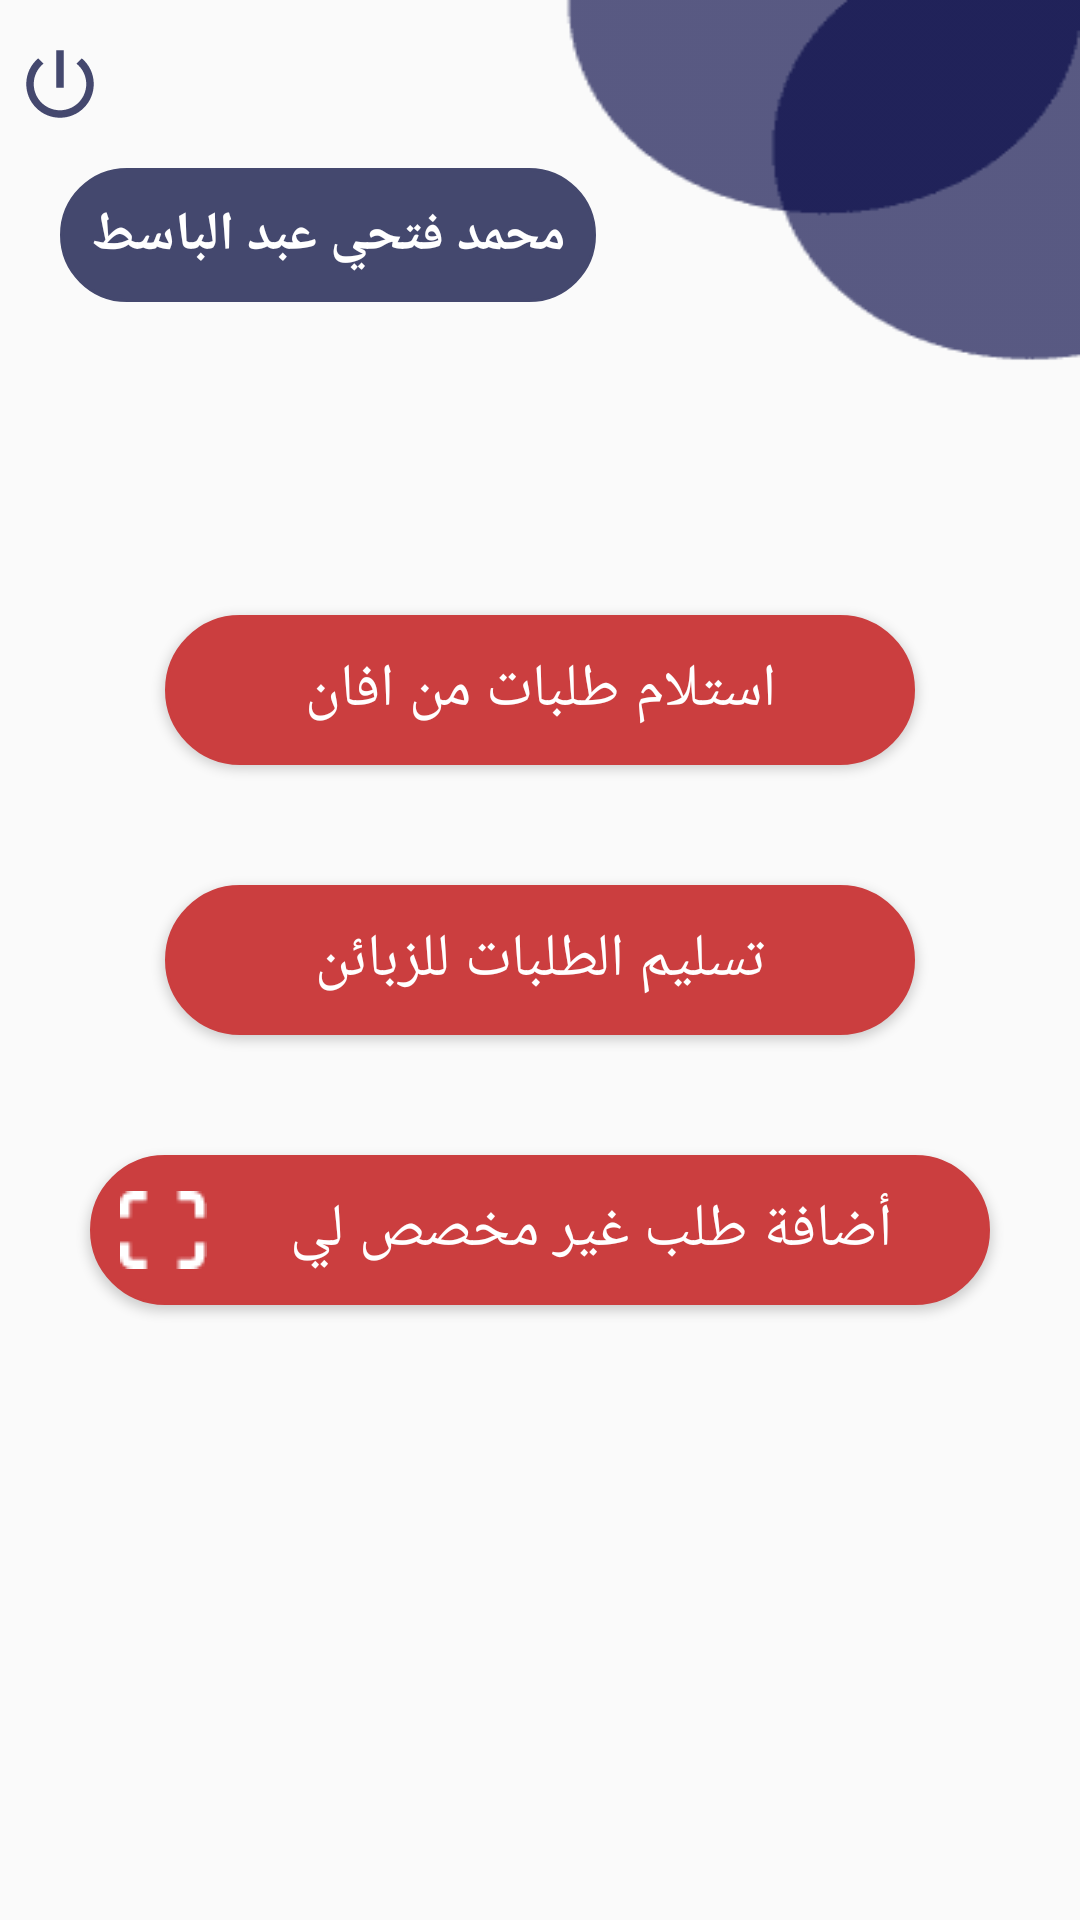

Screen size 1080 x 1920. Icon name, then its center in pixels as (x,y):
power settings: (60,84)
